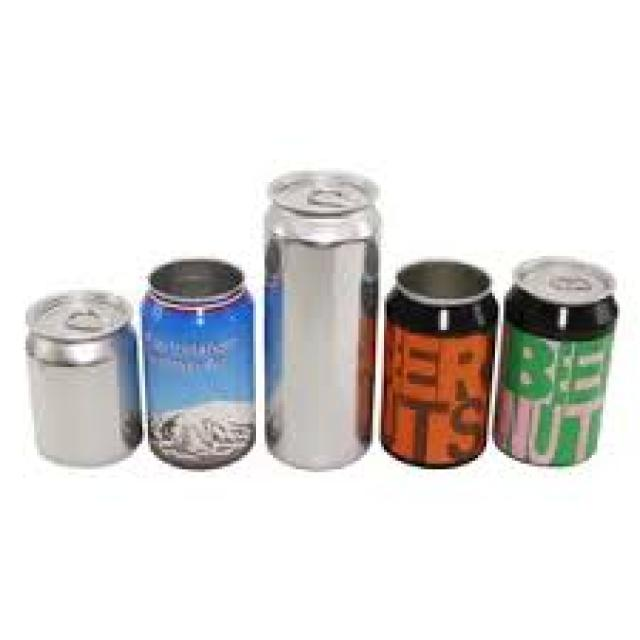Cans: (253, 165, 387, 472), (495, 247, 626, 483), (378, 253, 504, 475), (136, 256, 262, 475), (17, 281, 145, 478)
